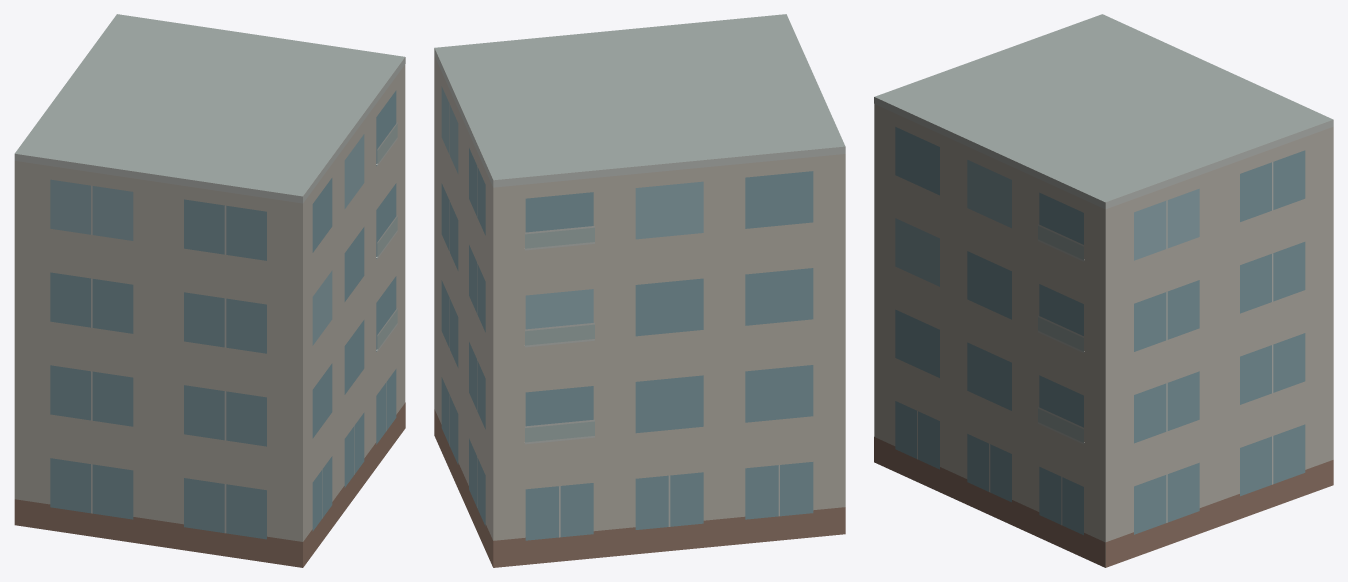
Rendered from survey-upis-32638121.glb.
3 renders of one model, left to right at view 1: azimuth 30°, elevation 25°; view 2: azimuth 150°, elevation 25°; view 3: azimuth 270°, elevation 25°, orthographic. The views are drawn at different scales.
Parts seen in each view (by area): view 1: survey-upis-32638121.tmp; view 2: survey-upis-32638121.tmp; view 3: survey-upis-32638121.tmp.
Boxes of the visible parts, <box> form: survey-upis-32638121.tmp: <box>14,14,405,567</box>; survey-upis-32638121.tmp: <box>434,14,845,567</box>; survey-upis-32638121.tmp: <box>874,14,1333,567</box>.
Size of the model in its own units: 14.16 by 12.8 by 14.59.
